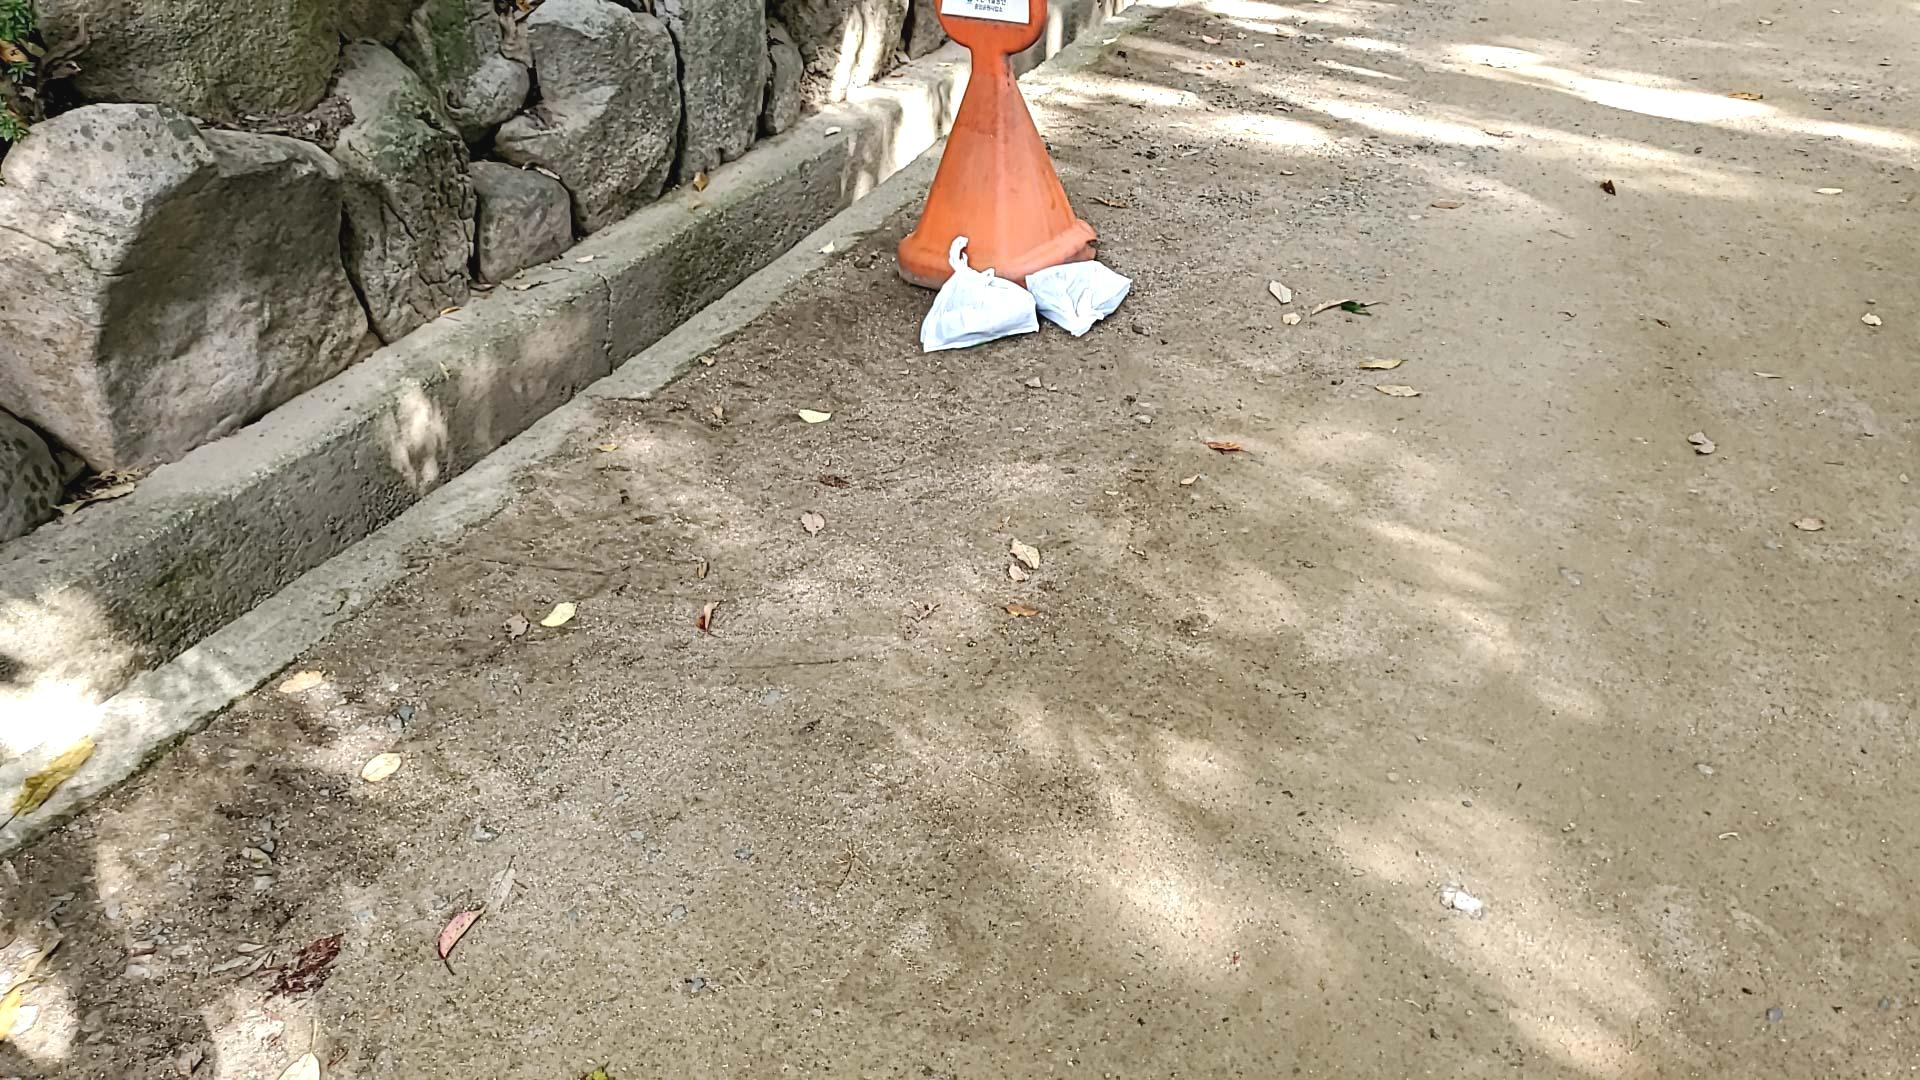white_bag: (907, 232, 1048, 369), (1015, 252, 1135, 338)
